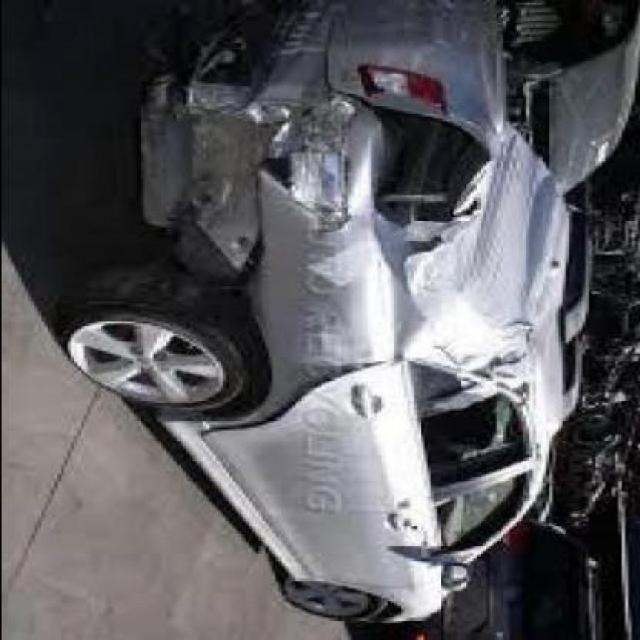damage: (115, 3, 546, 403)
